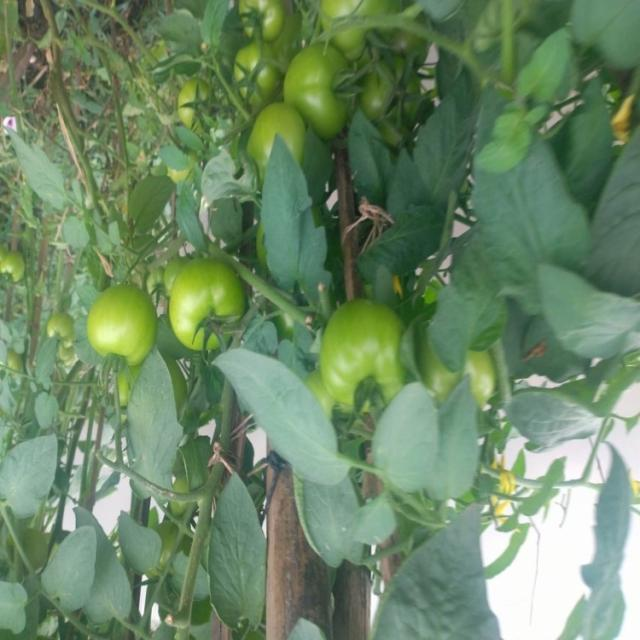tomato: (324, 300, 411, 418), (353, 51, 446, 151), (155, 261, 256, 353), (85, 275, 165, 367), (286, 44, 357, 136), (247, 94, 310, 182), (423, 343, 500, 411), (310, 1, 406, 47), (223, 36, 280, 107), (223, 1, 294, 42), (177, 79, 220, 133), (1, 244, 24, 282), (50, 316, 77, 345)
